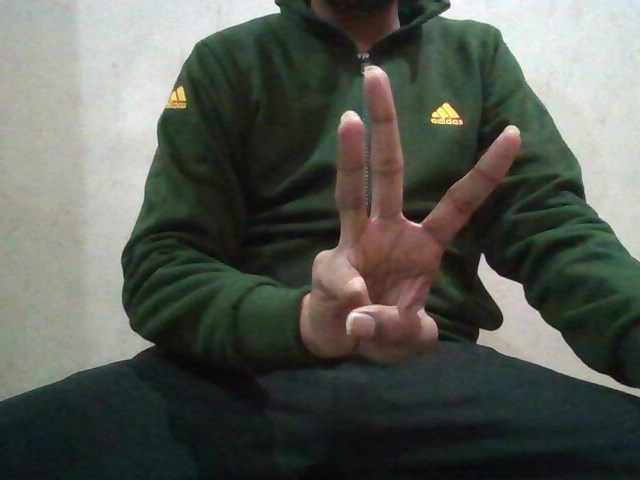W: (297, 59, 524, 382)
